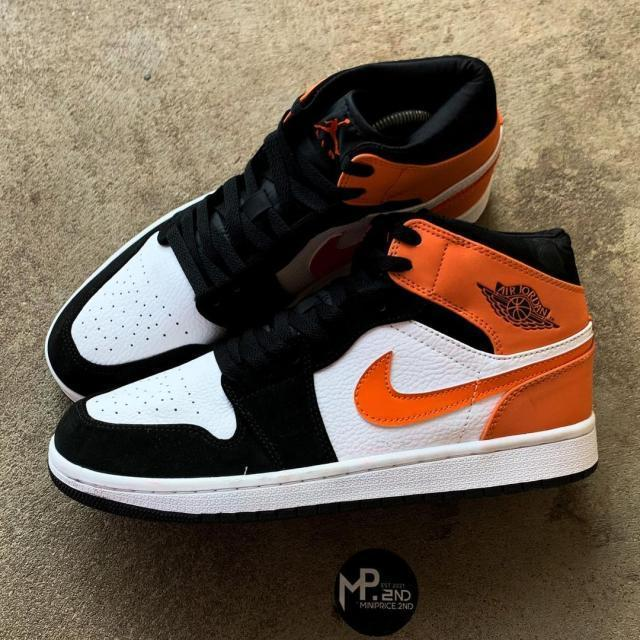nike fake jordan 1: (39, 212, 610, 524), (22, 62, 517, 404)
